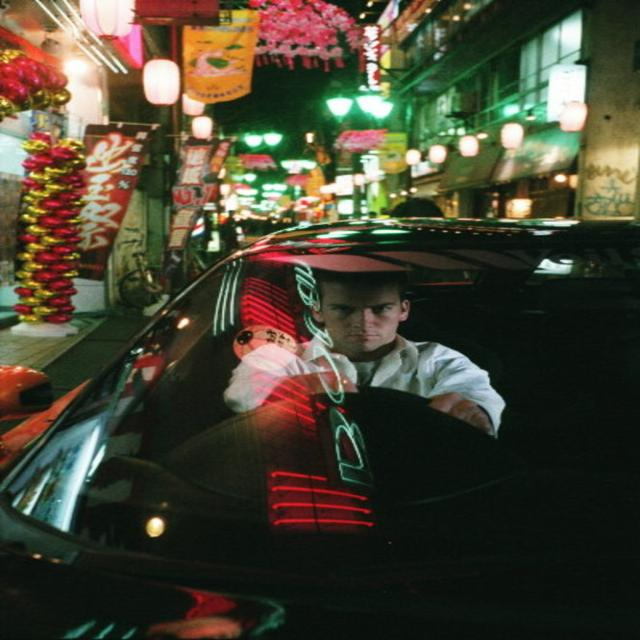car: (0, 220, 637, 639)
